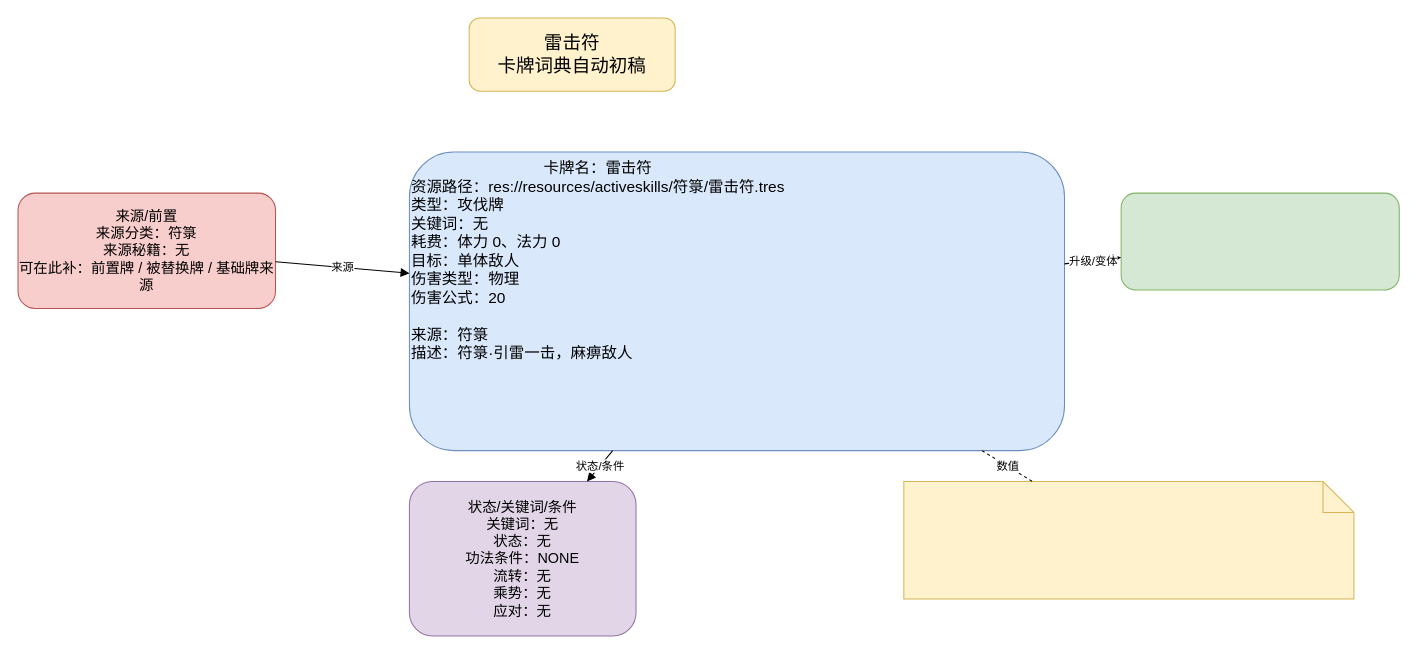
This 1417x654 diagram has some shape labels left out. Each missing label, with the box of its shape:
升级/变体预留 可在此补：升级牌 / 主修强化版 / 化法后新牌 同系：符箓: (1120, 192, 1399, 290)
数值摘要 基础伤害类型：物理 伤害公式：20 伤害类型：spiritual 倍率：intelligence x 0.4?soul x 0.3 范围：AOE 0: (903, 480, 1354, 599)
